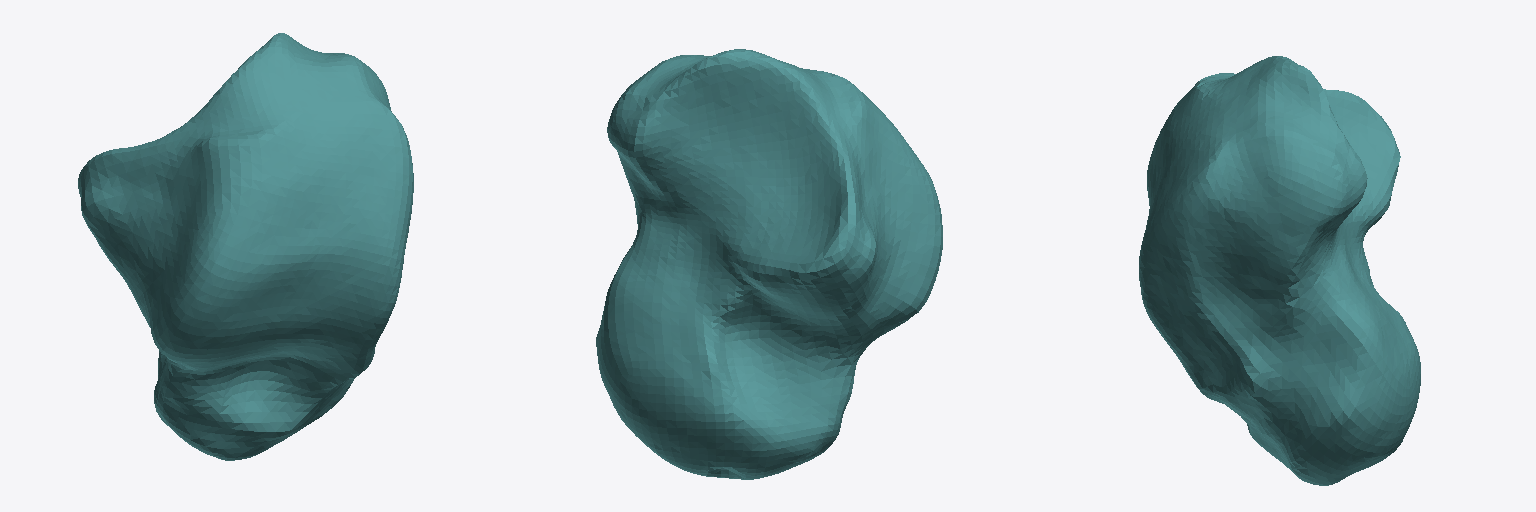
The model's file is Talus.obj.
The picture shows the model from 3 angles: view 1: azimuth 30°, elevation 25°; view 2: azimuth 150°, elevation 25°; view 3: azimuth 270°, elevation 25°; orthographic projection.
Visible parts, largest first — view 1: Object_0Talus; view 2: Object_0Talus; view 3: Object_0Talus.
Part boxes in pixels (left/top/right/bottom): Object_0Talus: left=78, top=33, right=413, bottom=460; Object_0Talus: left=596, top=49, right=942, bottom=479; Object_0Talus: left=1139, top=56, right=1420, bottom=485.
Size of the model in its own units: 47.3 by 66.59 by 41.75.